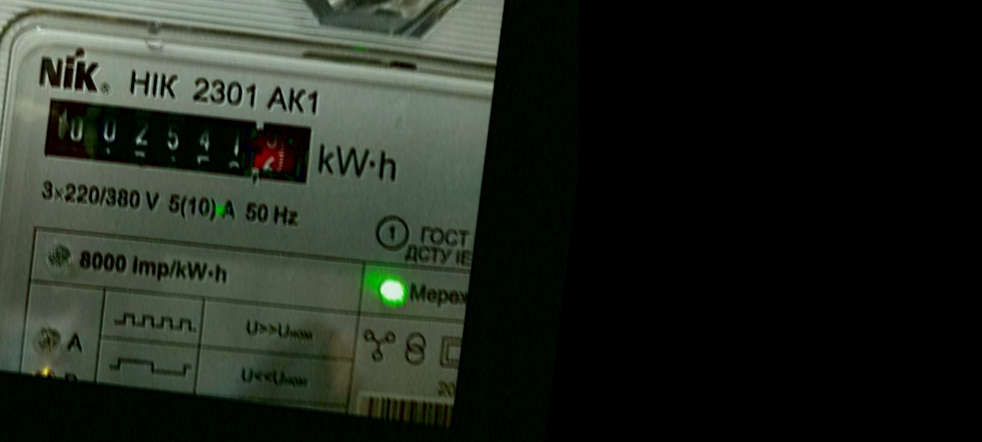0: (97, 110, 120, 145), (66, 112, 86, 143)
1: (224, 123, 244, 158)
2: (128, 113, 153, 150)
4: (194, 120, 214, 153)
5: (161, 119, 181, 153)
6: (258, 151, 276, 174)
screen: (25, 79, 334, 206)
